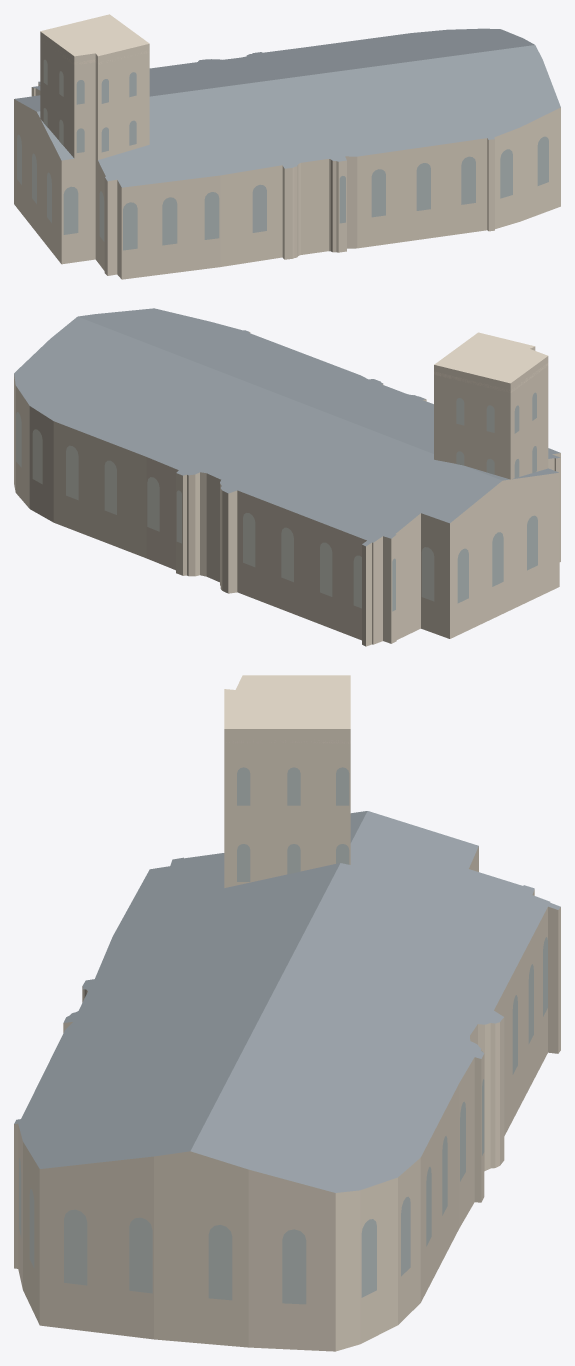
3 views of the same model, one above another, from view 1: azimuth 30°, elevation 25°; view 2: azimuth 150°, elevation 25°; view 3: azimuth 270°, elevation 25° (orthographic). The views are drawn at different scales.
Parts seen in each view (by area): view 1: stone, roof, window; view 2: stone, roof, window; view 3: roof, stone, window.
Part boxes in pixels (x1=…): stone: x1=14, y1=14, x2=560, y2=279; roof: x1=14, y1=28, x2=560, y2=187; window: x1=17, y1=59, x2=548, y2=250; stone: x1=14, y1=332, x2=560, y2=646; roof: x1=14, y1=308, x2=560, y2=546; window: x1=16, y1=392, x2=537, y2=611; roof: x1=14, y1=811, x2=560, y2=1192; stone: x1=14, y1=675, x2=560, y2=1351; window: x1=19, y1=767, x2=547, y2=1304.
Size of the model in its own units: 80.71 by 34 by 51.83.
